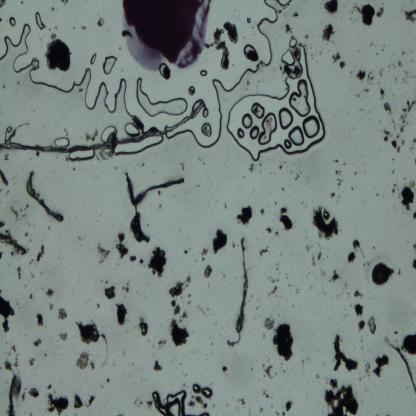Air bubble: (222, 36, 332, 164), (208, 73, 246, 159), (67, 70, 132, 117), (0, 26, 40, 86), (135, 77, 188, 117), (254, 0, 278, 75), (232, 78, 292, 104), (151, 390, 187, 416), (114, 137, 164, 155), (290, 78, 310, 116), (303, 116, 320, 140), (277, 107, 294, 130), (191, 382, 213, 398), (68, 150, 96, 162), (289, 126, 305, 147), (100, 124, 118, 142), (102, 56, 118, 75), (240, 112, 254, 129), (282, 49, 296, 66), (251, 102, 265, 119), (34, 10, 45, 30), (54, 136, 69, 148), (201, 122, 212, 138), (250, 124, 260, 141), (244, 43, 254, 57), (283, 138, 293, 149), (277, 0, 292, 7), (89, 53, 98, 64), (236, 128, 245, 139), (288, 38, 298, 47), (9, 16, 16, 28), (200, 69, 208, 77)
Background material: (324, 378, 359, 416), (44, 32, 71, 73), (75, 322, 109, 354), (203, 30, 230, 70), (310, 203, 339, 240), (332, 335, 360, 372), (272, 320, 294, 362), (0, 230, 29, 258), (168, 316, 191, 350), (132, 205, 151, 243), (148, 244, 167, 280), (7, 374, 23, 416), (364, 62, 389, 88), (301, 242, 325, 269), (258, 113, 278, 144), (399, 101, 416, 135), (167, 276, 192, 299), (0, 297, 15, 334), (47, 391, 69, 416), (353, 4, 375, 28), (233, 204, 254, 229), (210, 228, 228, 257), (400, 184, 416, 214), (391, 56, 411, 79), (372, 353, 389, 378), (278, 208, 294, 233), (115, 301, 130, 327), (116, 230, 128, 262), (223, 21, 239, 44), (96, 242, 110, 267), (321, 23, 336, 45), (347, 240, 361, 263), (74, 349, 89, 370), (401, 334, 416, 355), (330, 52, 346, 70), (256, 384, 274, 399), (102, 283, 116, 301), (391, 135, 405, 153), (154, 335, 168, 353), (367, 314, 378, 336), (10, 343, 19, 369), (138, 315, 148, 338), (160, 64, 171, 84), (0, 166, 9, 190), (324, 1, 339, 15), (403, 10, 416, 26), (352, 300, 364, 317), (202, 263, 214, 280), (334, 168, 344, 188), (196, 395, 208, 410), (171, 298, 181, 316), (36, 244, 46, 262), (355, 68, 367, 83), (263, 316, 275, 330), (73, 393, 83, 409), (328, 272, 341, 284), (257, 246, 270, 258), (267, 285, 279, 298), (84, 394, 95, 408), (10, 206, 20, 221), (4, 358, 13, 374), (265, 365, 274, 381), (121, 280, 131, 294), (57, 308, 67, 322), (236, 397, 248, 408), (133, 395, 143, 408), (382, 129, 391, 143), (284, 22, 294, 34), (45, 286, 55, 298), (246, 162, 255, 175), (358, 318, 366, 332), (36, 313, 44, 327), (60, 329, 68, 343), (390, 178, 397, 194), (154, 358, 162, 372), (29, 386, 37, 400), (33, 337, 43, 348), (200, 246, 209, 258), (96, 16, 105, 28), (274, 162, 285, 171), (376, 7, 384, 19), (378, 88, 385, 101), (384, 102, 393, 112), (181, 246, 190, 256), (28, 356, 36, 367), (276, 407, 285, 416), (187, 399, 196, 408), (286, 400, 292, 413), (90, 359, 96, 372), (410, 258, 416, 270), (17, 266, 22, 280), (188, 86, 195, 96), (129, 254, 137, 262), (354, 290, 362, 298), (221, 366, 228, 374), (21, 390, 25, 403), (267, 225, 272, 235), (0, 0, 7, 7), (259, 207, 265, 215), (0, 220, 5, 229), (330, 191, 336, 198), (28, 293, 34, 300), (47, 382, 52, 390), (412, 211, 416, 220), (139, 258, 144, 264)
Cellulose filter fibre: (0, 106, 203, 152), (24, 170, 64, 223), (388, 342, 416, 396), (235, 238, 249, 334)
Cotton: (124, 172, 185, 206)
Diatom: (372, 260, 389, 287)
Pen: (121, 0, 212, 68)
